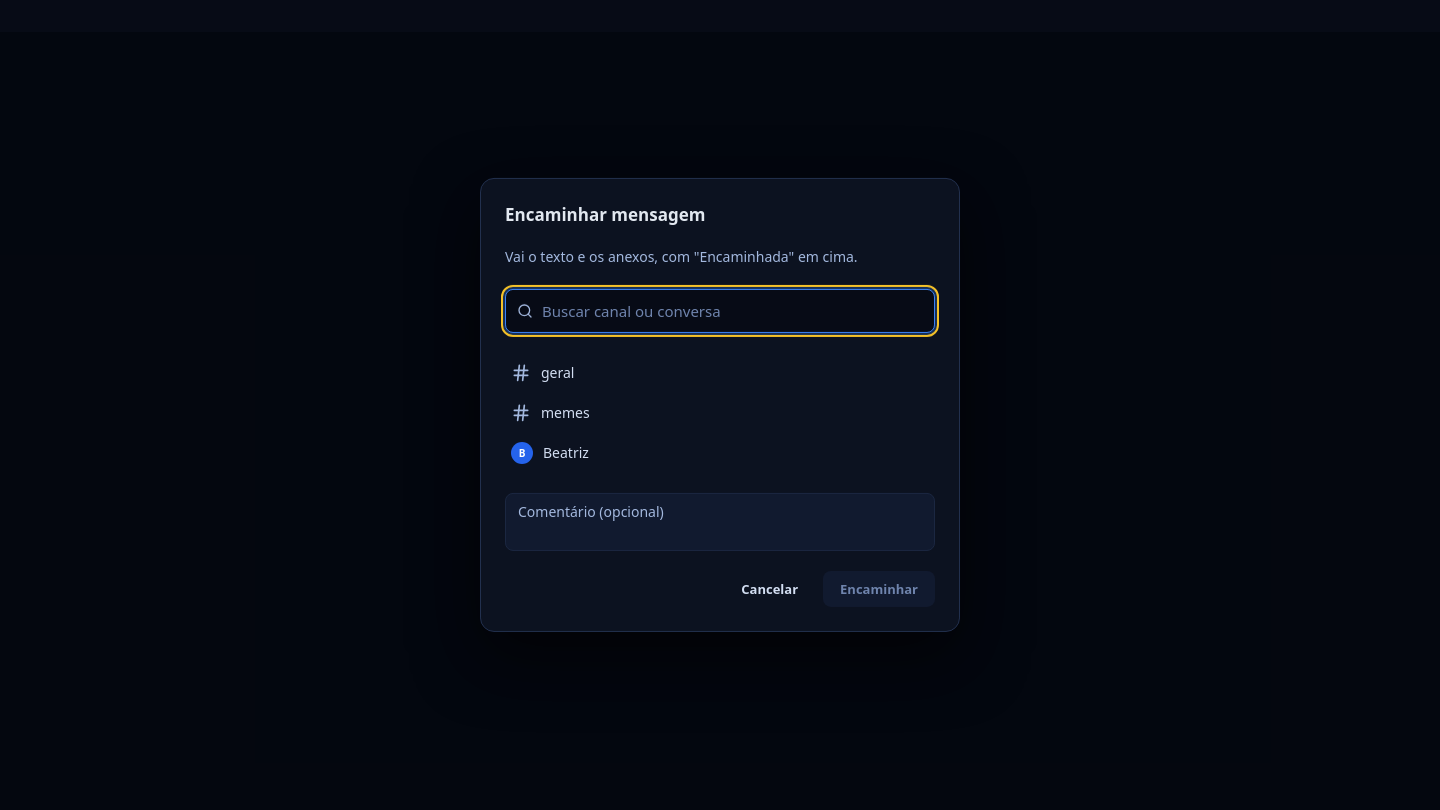
encaminhar › busca o destino, manda a encaminhada e o comentário logo depois
The image size is (1440, 810).
Later steps or results of the test are not shown.
Check: the dialog "Encaminhar mensagem" is shown, box [480,178,960,632]
Check: the radio button labelled "Beatriz" is shown, box [501,433,939,473]
Step 1. Type "mem" into the field labelled "Buscar canal ou conversa" → (720, 311), box [505,289,935,333]
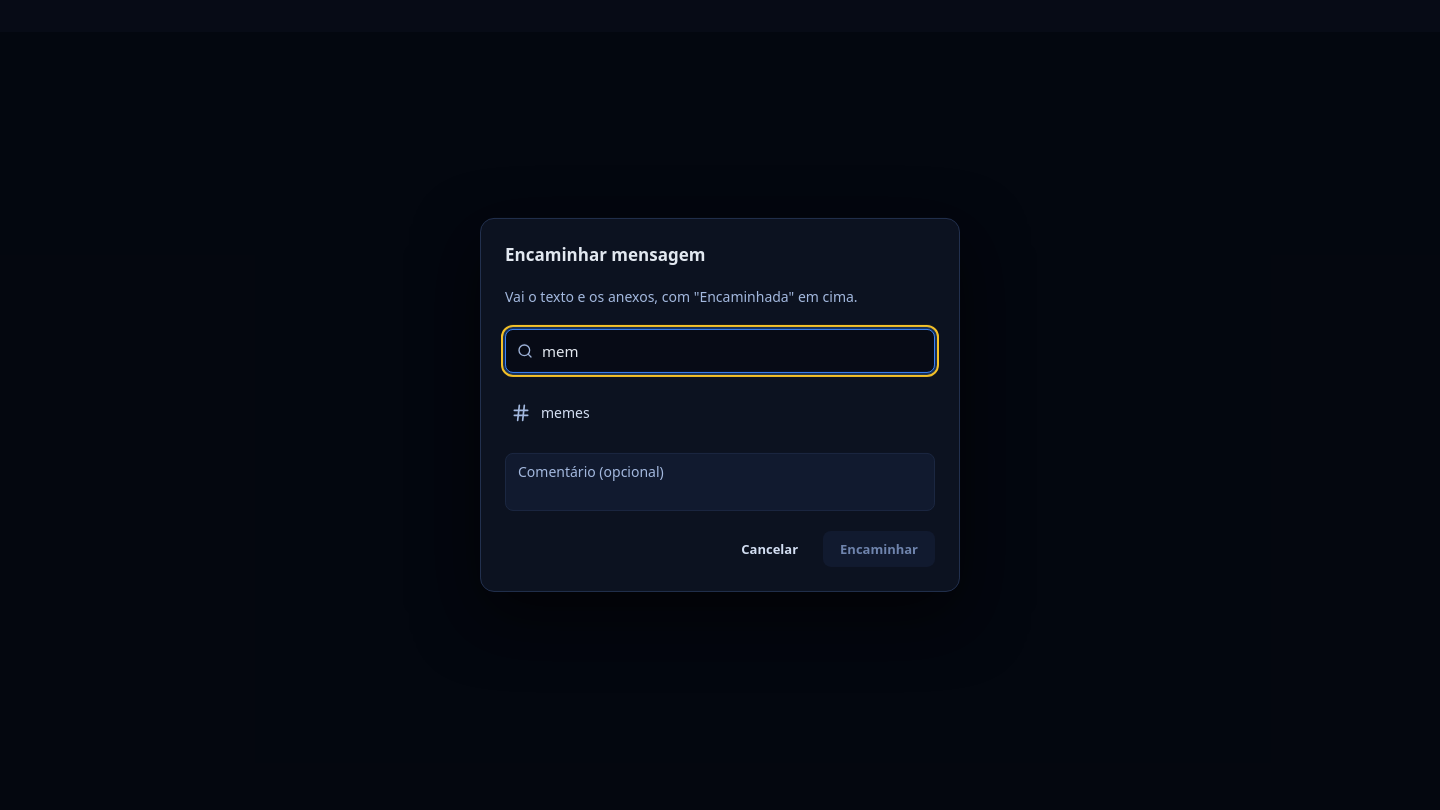
Check: the button "Encaminhar" is disabled, box [823,531,935,567]
Check: the radio button labelled "geral" is gone
